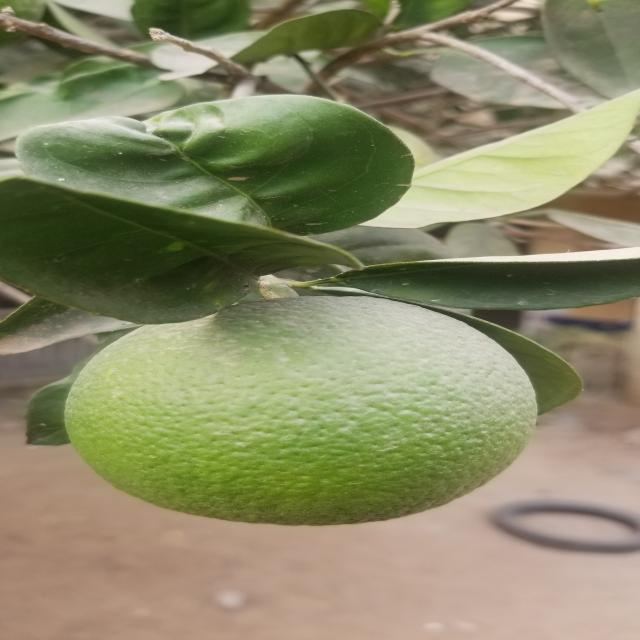Unripe: (69, 298, 522, 524)
